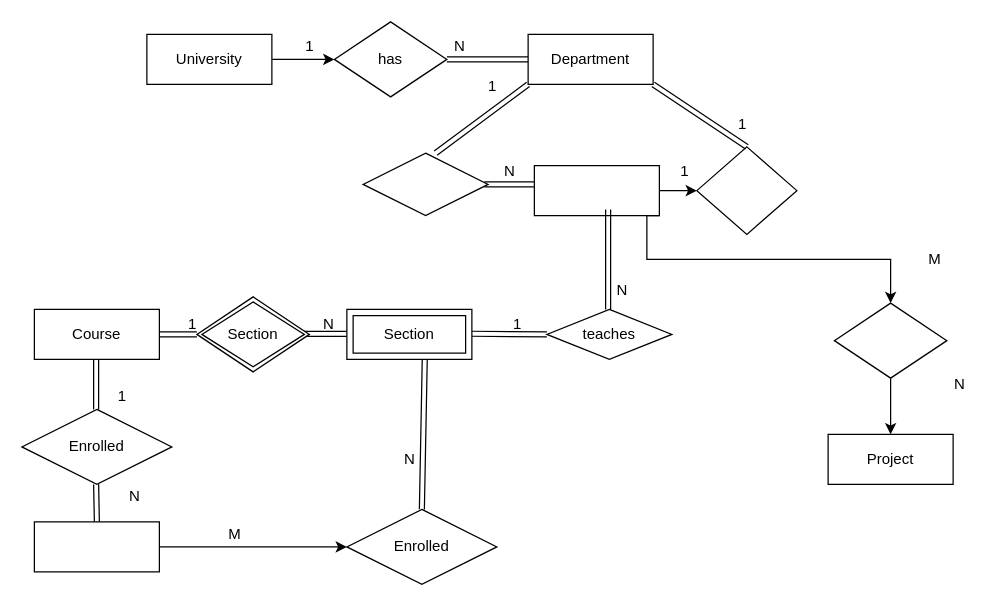
Some shapes in this 994 by 606 pixel diagram are drawn without their labels. The shapes that lost their labels are listed below. From the top down, each one's centre as x and y in pixels, then its label:
At point (425, 184): "Appoints".
At point (596, 190): "Professor".
At point (746, 190): "manages".
At point (890, 340): "works_on".
At point (96, 546): "Student".
